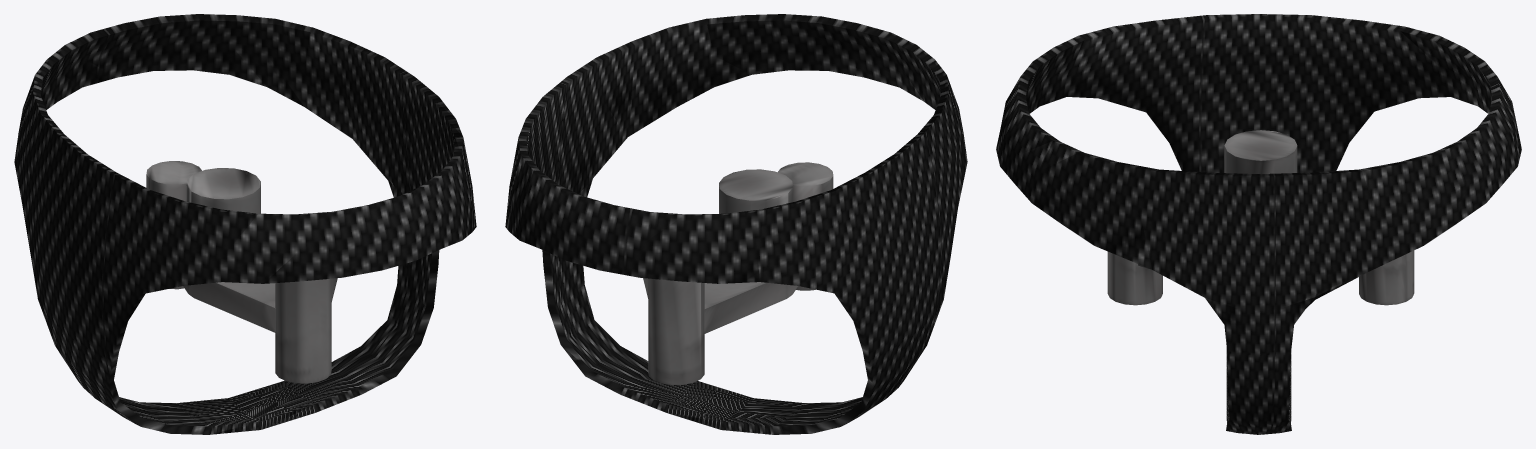
File: pelvis.dae
3 renders of one model, left to right at view 1: azimuth 30°, elevation 25°; view 2: azimuth 150°, elevation 25°; view 3: azimuth 270°, elevation 25°, orthographic. The views are drawn at different scales.
Visible parts, largest first — view 1: p22087, p21671; view 2: p22087, p21671; view 3: p22087, p21671.
Part boxes in pixels (bbox=[...]): p22087: bbox=[14, 14, 476, 434]; p21671: bbox=[146, 161, 337, 383]; p22087: bbox=[505, 14, 967, 434]; p21671: bbox=[643, 162, 833, 384]; p22087: bbox=[996, 14, 1521, 434]; p21671: bbox=[1107, 130, 1414, 305].
Bounding box in the file's own units: 0.2855 × 0.3717 × 0.2322.
